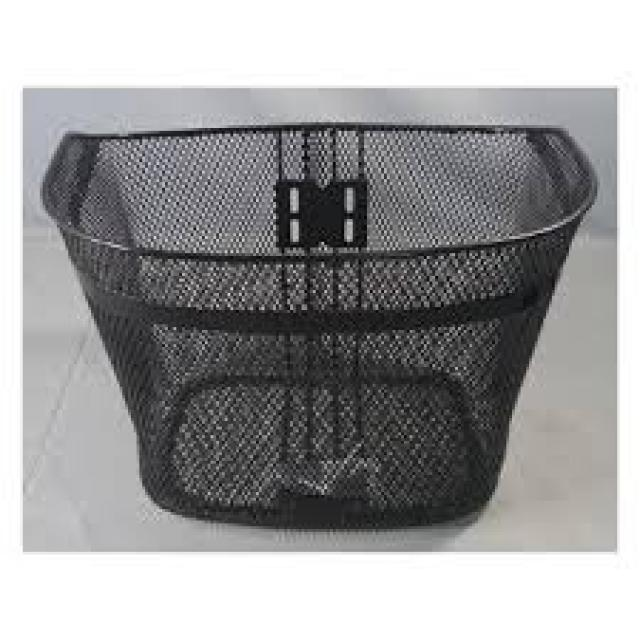basket: (42, 125, 595, 533)
